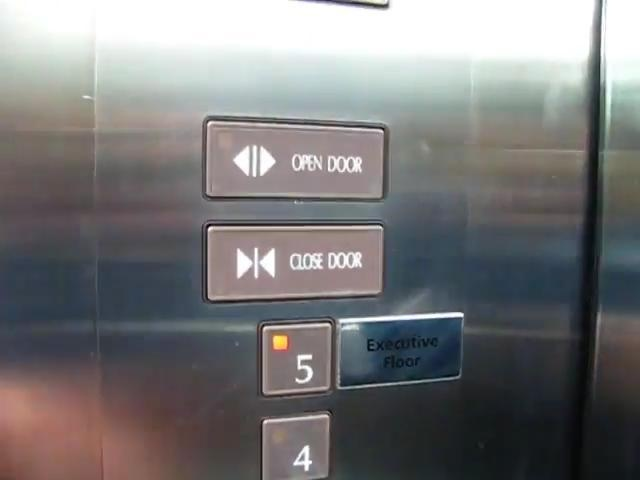4: (256, 406, 337, 480)
5: (253, 314, 338, 402)
close: (199, 217, 388, 307)
open: (198, 111, 393, 207)
